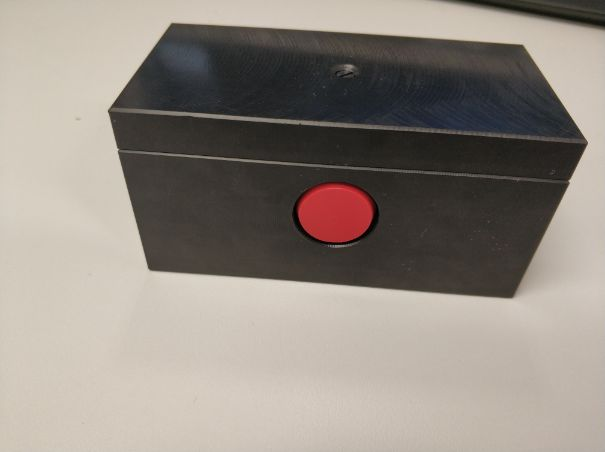black+black+red: (103, 17, 590, 308)
